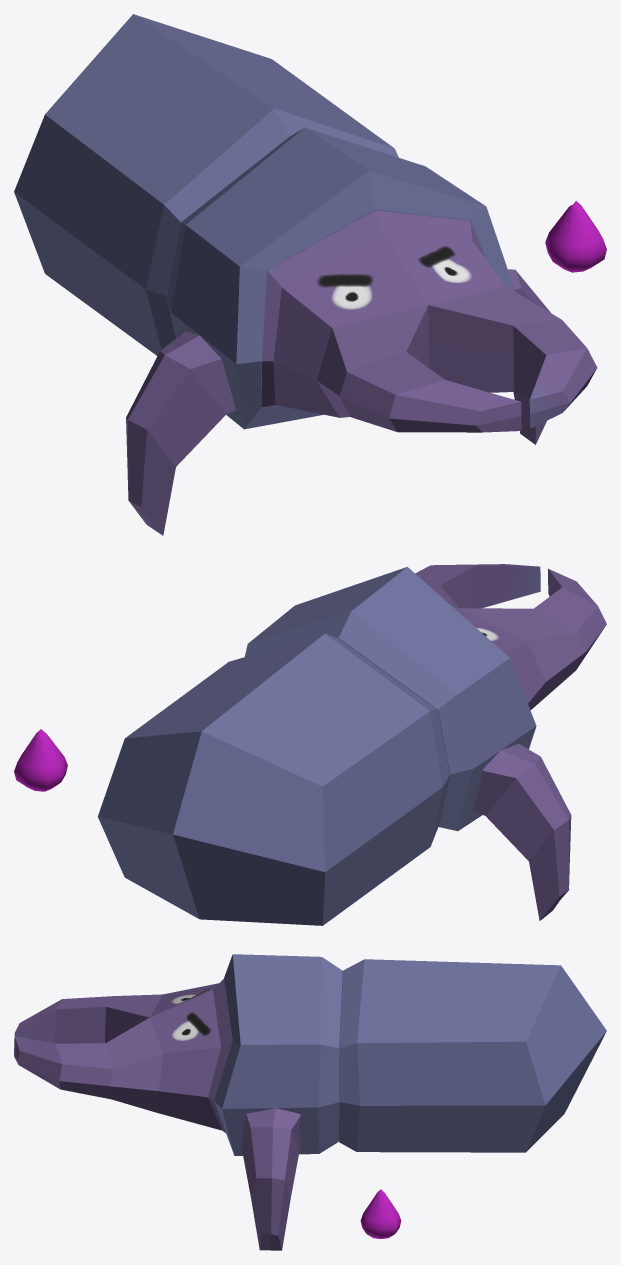
Rendered from beetle_corpse.glb.
3 renders of one model, top to bottom at view 1: azimuth 30°, elevation 25°; view 2: azimuth 150°, elevation 25°; view 3: azimuth 270°, elevation 25°, orthographic. The views are drawn at different scales.
Parts seen in each view (by area): view 1: BeetleCorpseLowerBody, BeetleCorpseHead, BeetleCorpseUpperBody, BeetleCorpseLegRight, SplatterDrop, BeetleCorpseLegLeft; view 2: BeetleCorpseLowerBody, BeetleCorpseUpperBody, BeetleCorpseHead, BeetleCorpseLegRight, SplatterDrop; view 3: BeetleCorpseLowerBody, BeetleCorpseHead, BeetleCorpseUpperBody, BeetleCorpseLegLeft, SplatterDrop.
Boxes of the visible parts, x1,y1,x2,y2 form: BeetleCorpseLowerBody: (14,14,398,355); BeetleCorpseHead: (261,210,597,432); BeetleCorpseUpperBody: (166,127,515,429); BeetleCorpseLegRight: (126,332,235,535); SplatterDrop: (545,201,606,272); BeetleCorpseLegLeft: (508,269,550,444); BeetleCorpseLowerBody: (97,633,449,925); BeetleCorpseUpperBody: (244,567,536,831); BeetleCorpseHead: (415,564,606,710); BeetleCorpseLegRight: (473,744,571,920); SplatterDrop: (14,729,67,791); BeetleCorpseLowerBody: (338,959,606,1152); BeetleCorpseHead: (14,979,232,1132); BeetleCorpseUpperBody: (214,954,342,1155); BeetleCorpseLegLeft: (241,1108,301,1250); SplatterDrop: (360,1189,401,1238).
Size of the model in its own units: 1.09 by 0.6299 by 1.45.
Materials: 2 (1 with a texture image).
